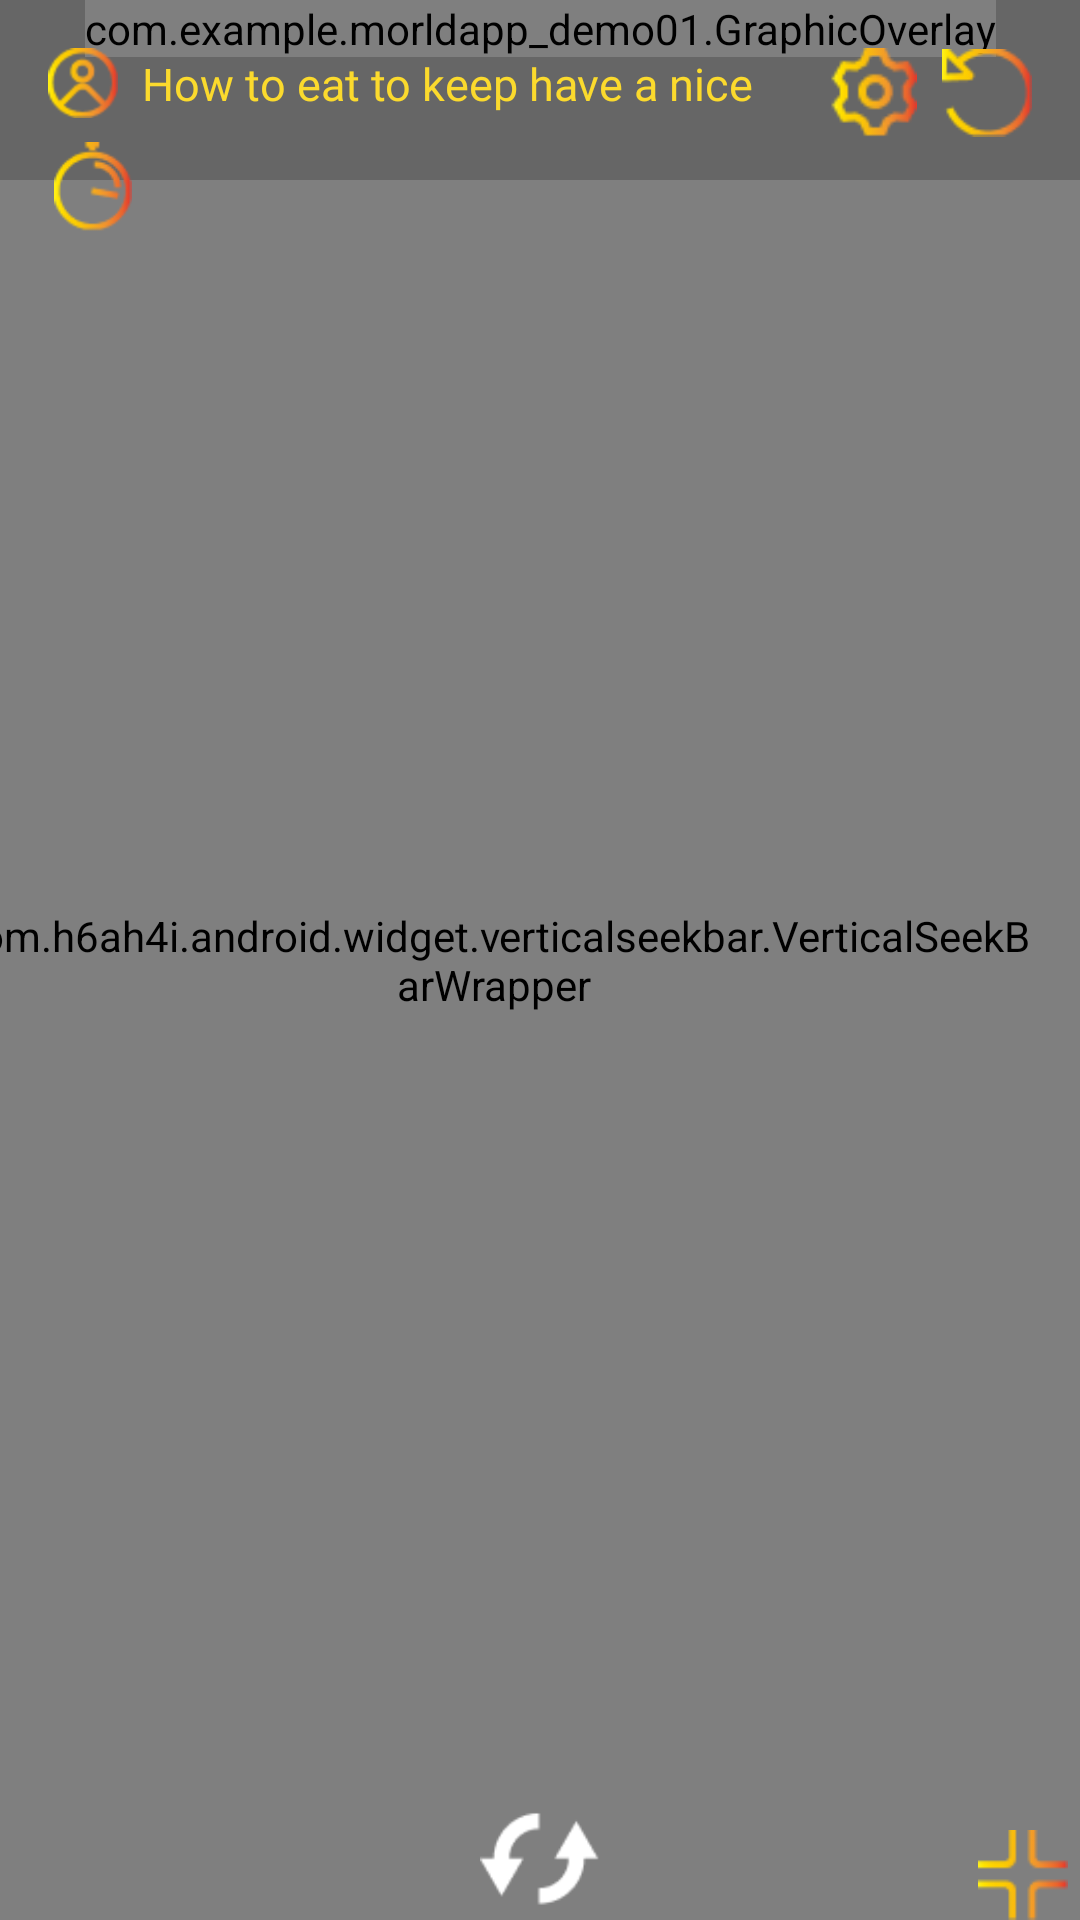

Screen size 1080px×1920px. Icon name, then its center in pixels as (x=x, y=y):
change camera: (x=539, y=1859)
clock: (x=93, y=187)
exit fullscreen: (x=1023, y=1875)
retry: (x=987, y=92)
setting: (x=873, y=92)
user: (x=83, y=83)
